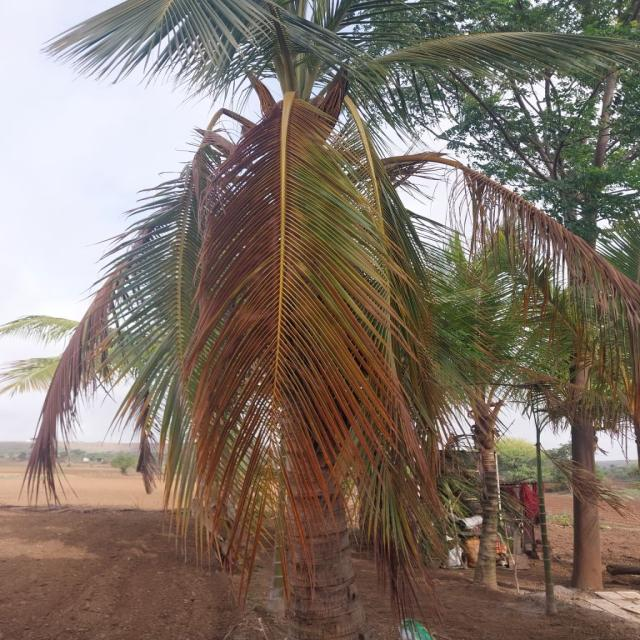bud root dropping: (27, 0, 635, 639)
